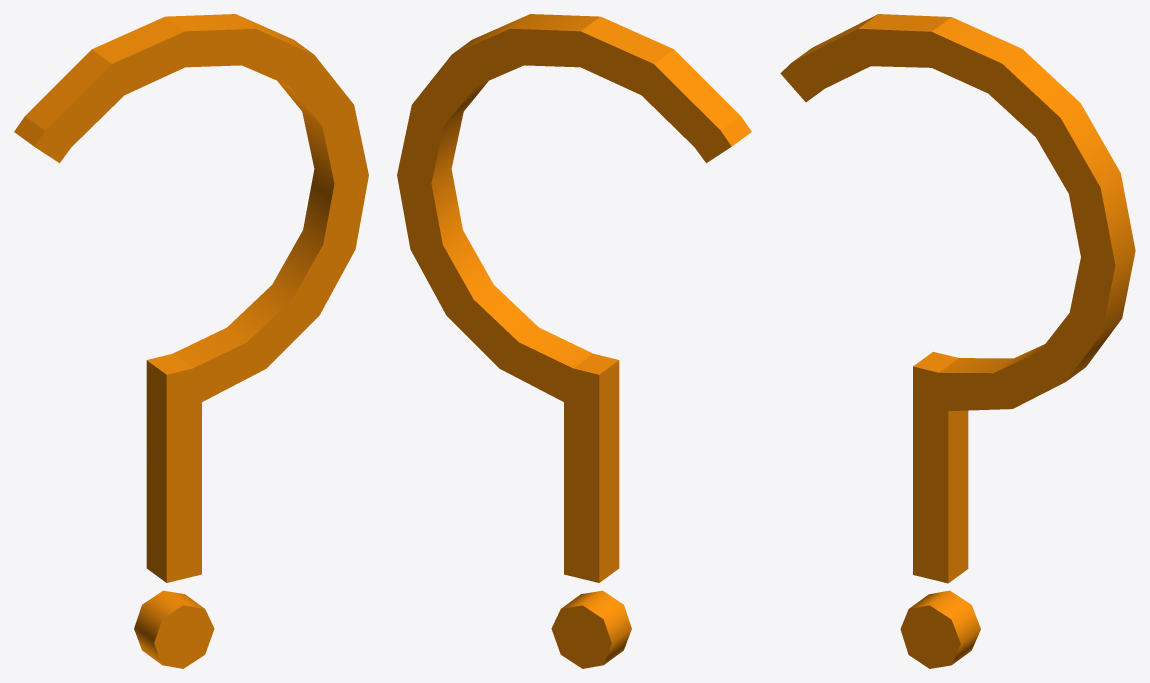
The model's file is Question.FBX.
3 renders of one model, left to right at view 1: azimuth 30°, elevation 25°; view 2: azimuth 150°, elevation 25°; view 3: azimuth 330°, elevation 25°, orthographic.
Visible parts, largest first — view 1: Question; view 2: Question; view 3: Question.
Part boxes in pixels (x1,y1,x2,y2): Question: (14, 14, 368, 668); Question: (397, 14, 751, 668); Question: (780, 14, 1135, 668).
Bounding box in the file's own units: 47.97 × 87.24 × 5.
